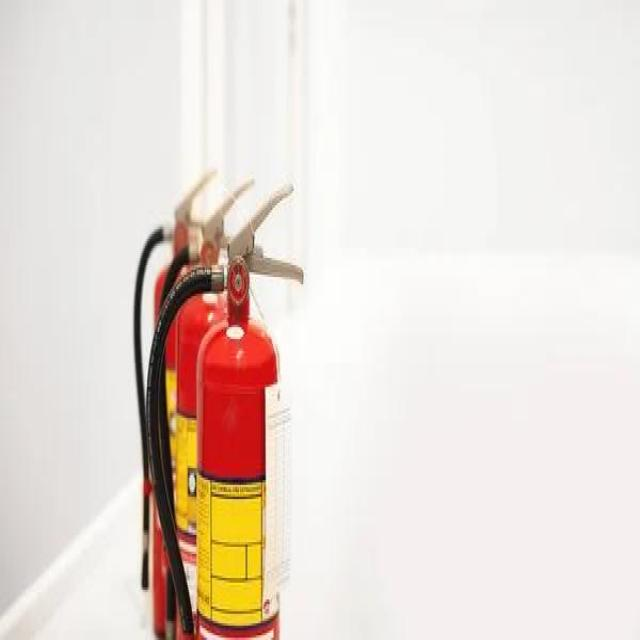fire_extinguisher: (144, 174, 306, 638), (152, 174, 264, 638), (134, 160, 222, 638)
